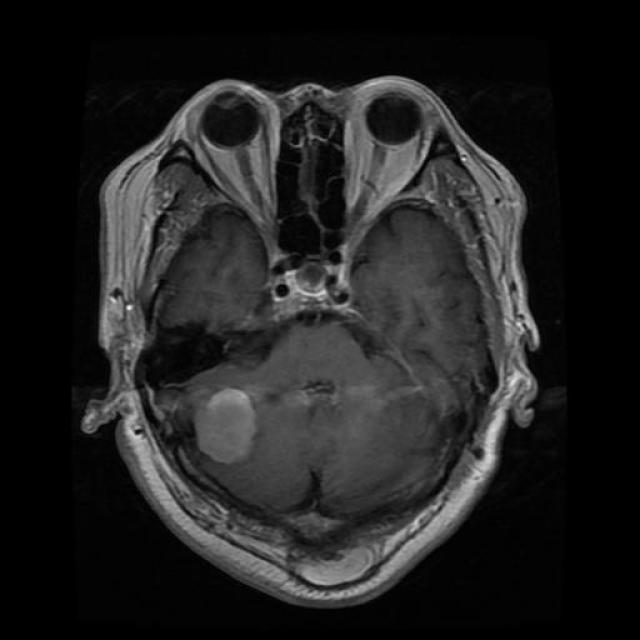meningioma: (182, 380, 270, 470)
